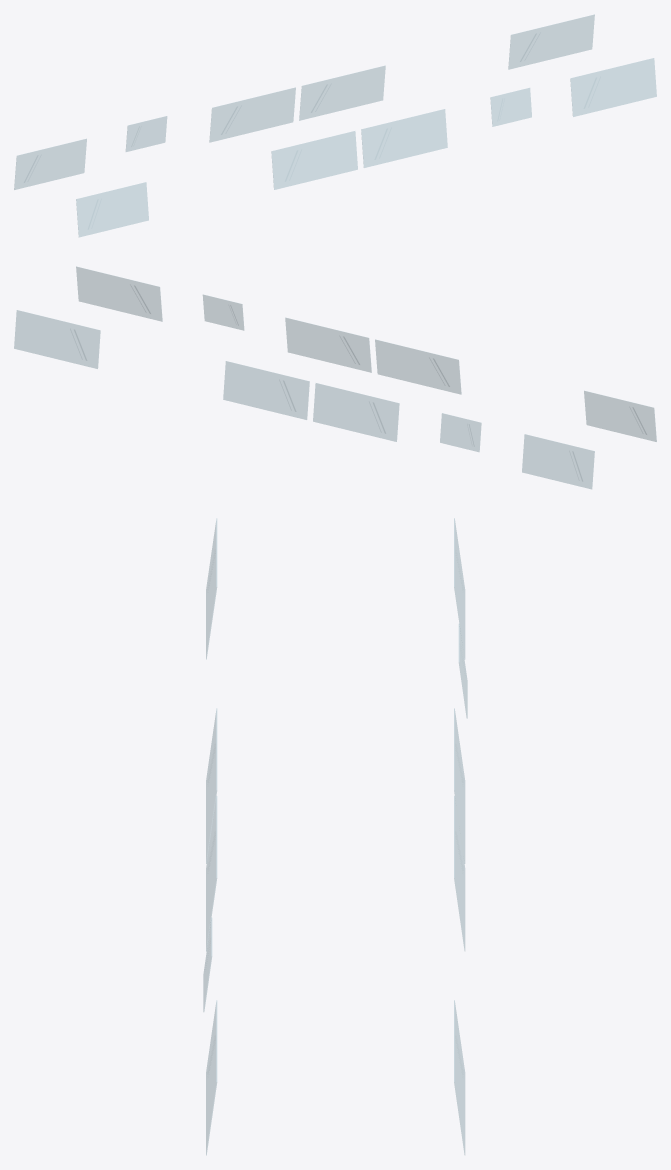
The model's file is train-glass.glb.
3 renders of one model, top to bottom at view 1: azimuth 30°, elevation 25°; view 2: azimuth 150°, elevation 25°; view 3: azimuth 270°, elevation 25°, orthographic. The views are drawn at different scales.
Parts seen in each view (by area): view 1: Vitre train 34, Vitre train 40, Vitre train 39, Vitre train 37, Vitre train 43, Vitre train 38, Vitre train 35, Vitre train 36, Vitre train 41, Vitre train 42; view 2: Vitre train 38, Vitre train 43, Vitre train 37, Vitre train 34, Vitre train 39, Vitre train 40, Vitre train 36, Vitre train 35, Vitre train 42, Vitre train 41; view 3: Vitre train 38, Vitre train 39, Vitre train 40, Vitre train 34, Vitre train 37, Vitre train 43.
Boxes of the visible parts, x1,y1,x2,y2 form: Vitre train 34: (570, 58, 656, 116); Vitre train 40: (361, 109, 447, 167); Vitre train 39: (271, 131, 357, 189); Vitre train 37: (209, 87, 295, 142); Vitre train 43: (508, 14, 594, 69); Vitre train 38: (299, 66, 385, 120); Vitre train 35: (76, 182, 148, 236); Vitre train 36: (14, 139, 86, 189); Vitre train 41: (490, 88, 531, 126); Vitre train 42: (126, 116, 166, 151); Vitre train 38: (223, 361, 309, 419); Vitre train 43: (14, 310, 100, 368); Vitre train 37: (313, 383, 399, 441); Vitre train 34: (76, 266, 162, 321); Vitre train 39: (375, 339, 461, 394); Vitre train 40: (285, 318, 371, 372); Vitre train 36: (522, 434, 594, 488); Vitre train 35: (584, 391, 656, 441); Vitre train 42: (440, 413, 481, 451); Vitre train 41: (203, 295, 243, 330); Vitre train 38: (454, 796, 464, 950); Vitre train 39: (206, 709, 216, 863); Vitre train 40: (206, 796, 216, 950); Vitre train 34: (206, 1001, 216, 1154); Vitre train 37: (454, 708, 464, 862); Vitre train 43: (454, 1000, 464, 1154).
Bounding box in the file's own units: 29.27 × 1.86 × 5.79.
